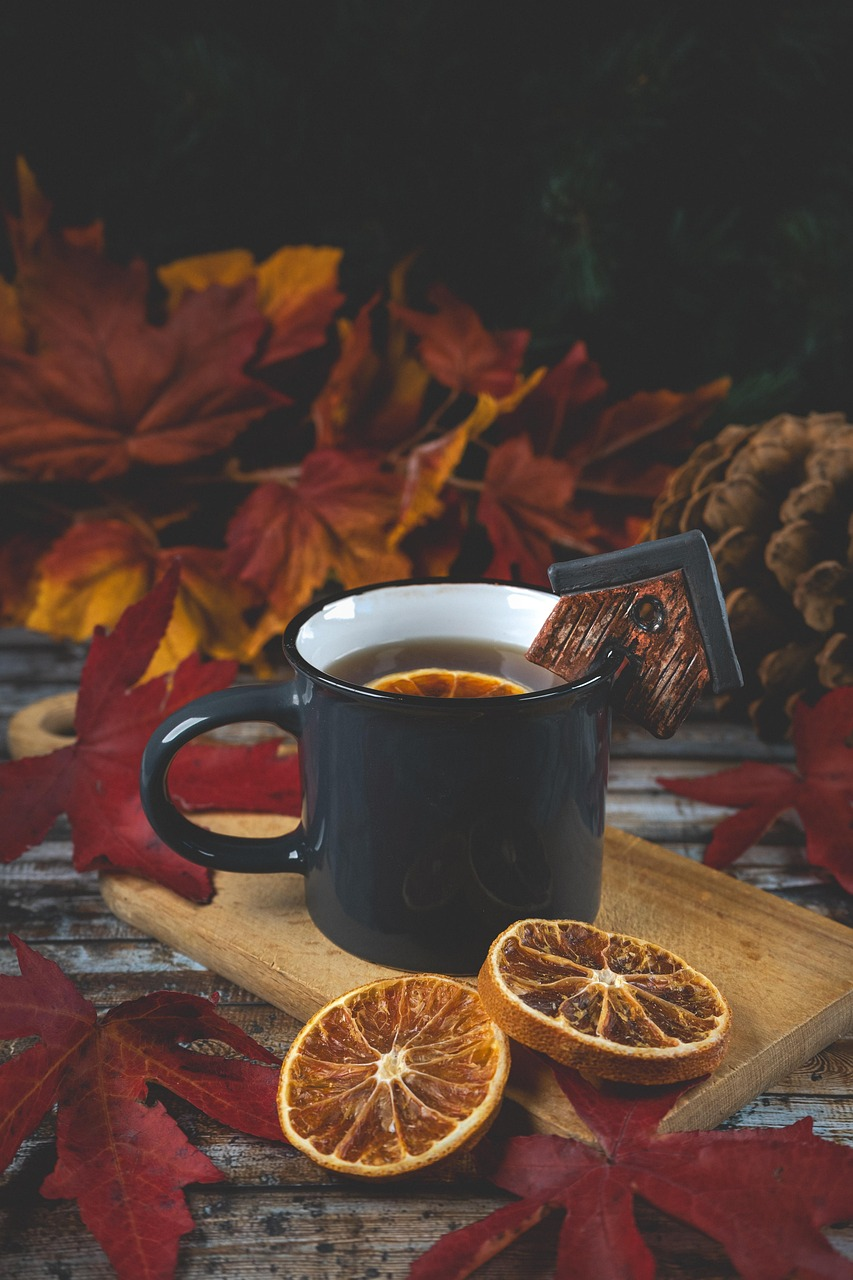mug: (89, 492, 734, 985)
